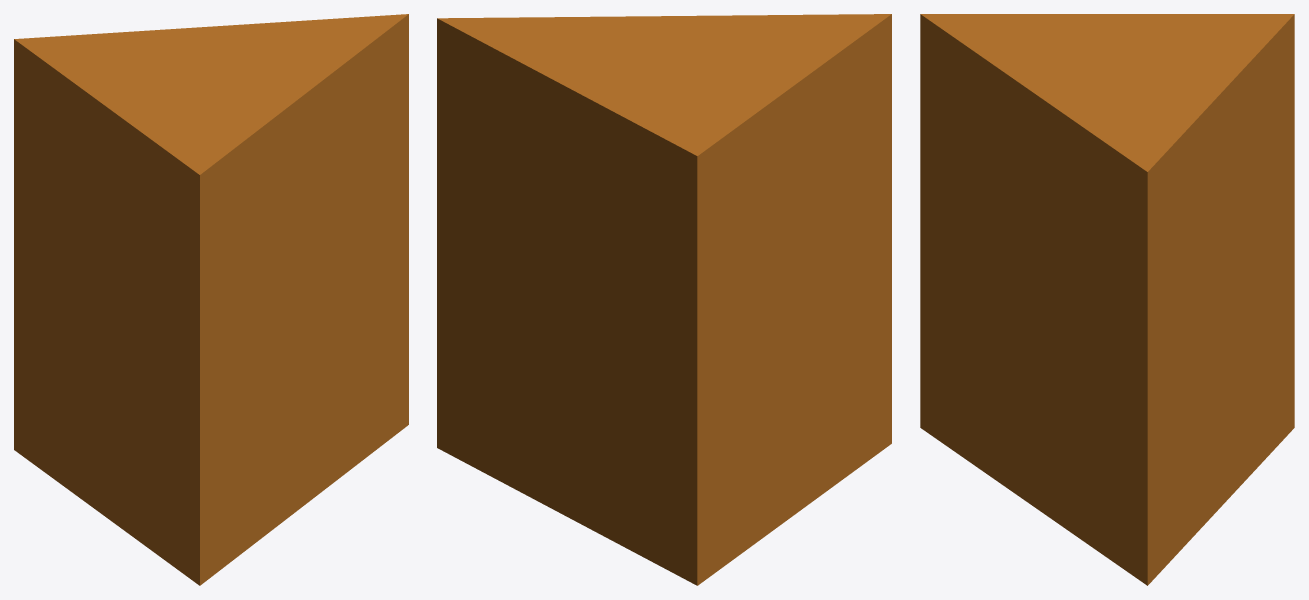
File: cheese.fbx
3 renders of one model, left to right at view 1: azimuth 30°, elevation 25°; view 2: azimuth 150°, elevation 25°; view 3: azimuth 270°, elevation 25°, orthographic. The views are drawn at different scales.
Parts seen in each view (by area): view 1: keju; view 2: keju; view 3: keju.
Boxes of the visible parts, x1,y1,x2,y2 form: keju: [14, 14, 408, 585]; keju: [437, 14, 891, 585]; keju: [920, 14, 1294, 585].
Size of the model in its own units: 200 by 244 by 200.
